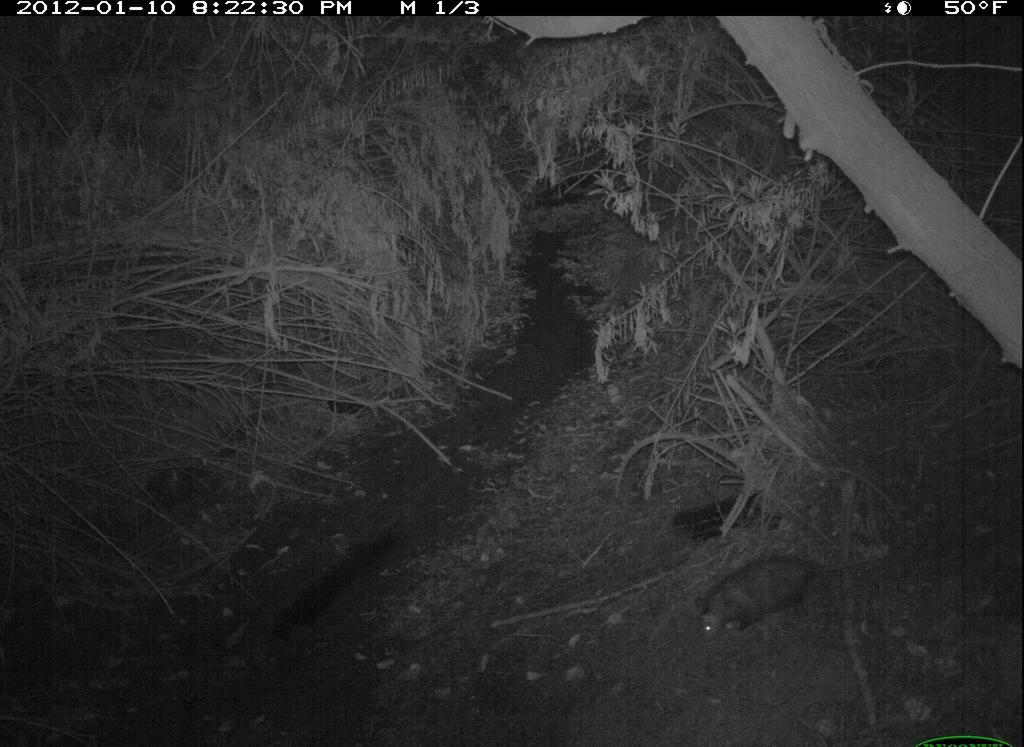opossum: (694, 542, 888, 646)
